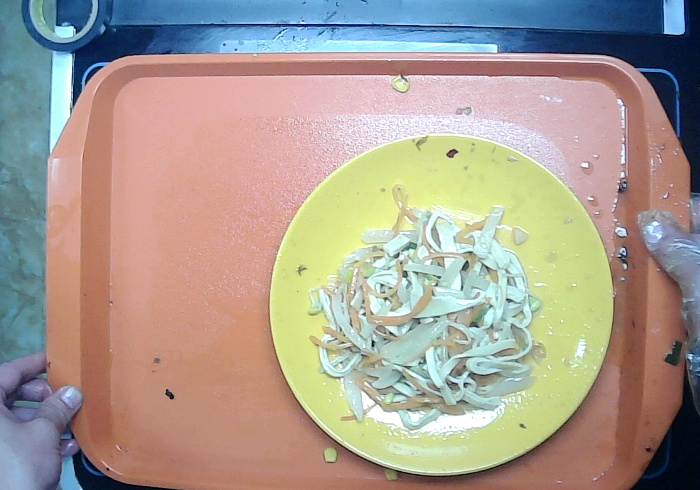HZYJPL-Huang_Se_Yuan_Pan: (267, 132, 616, 480)
